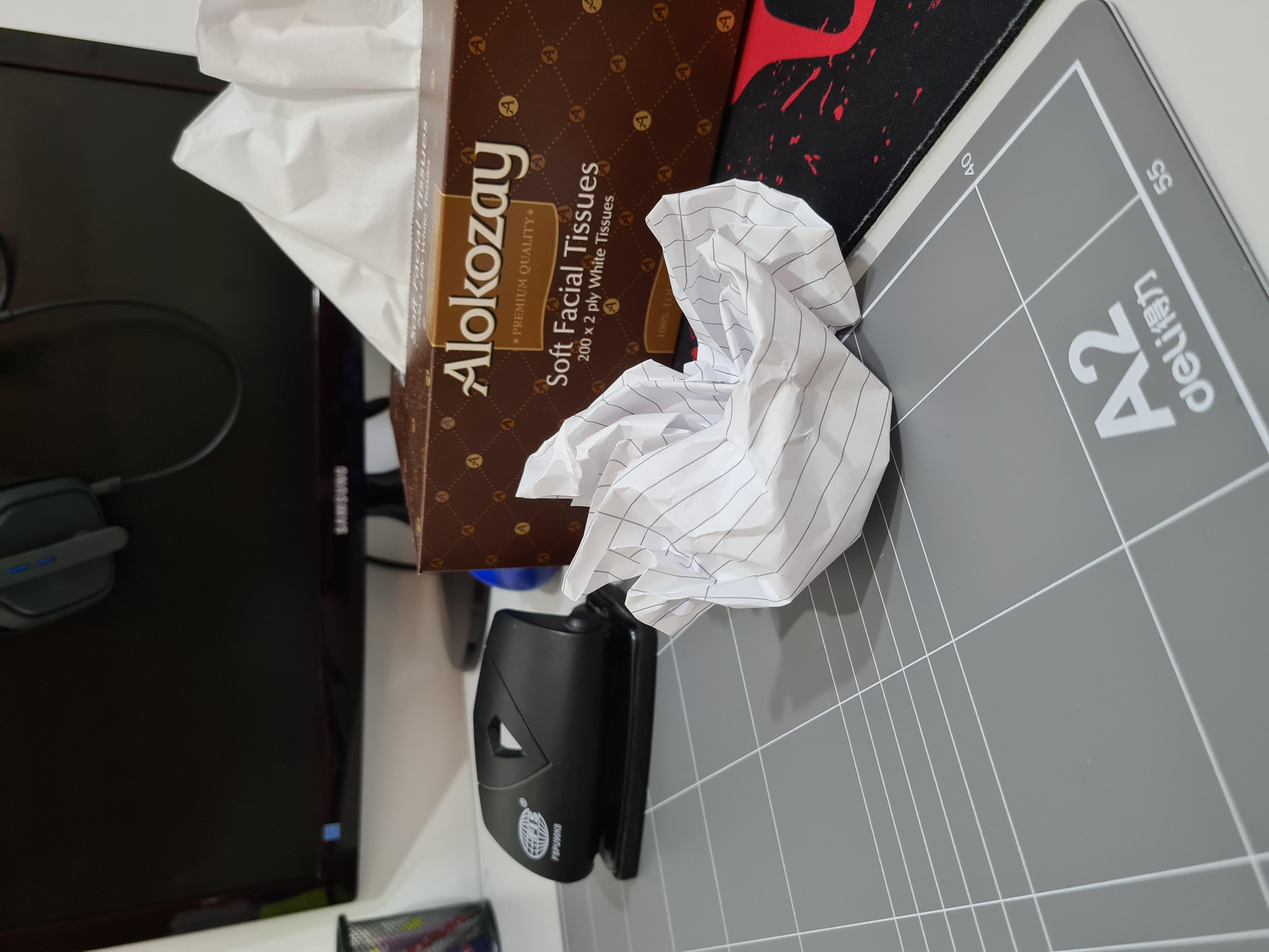paper: (425, 392, 1034, 669)
